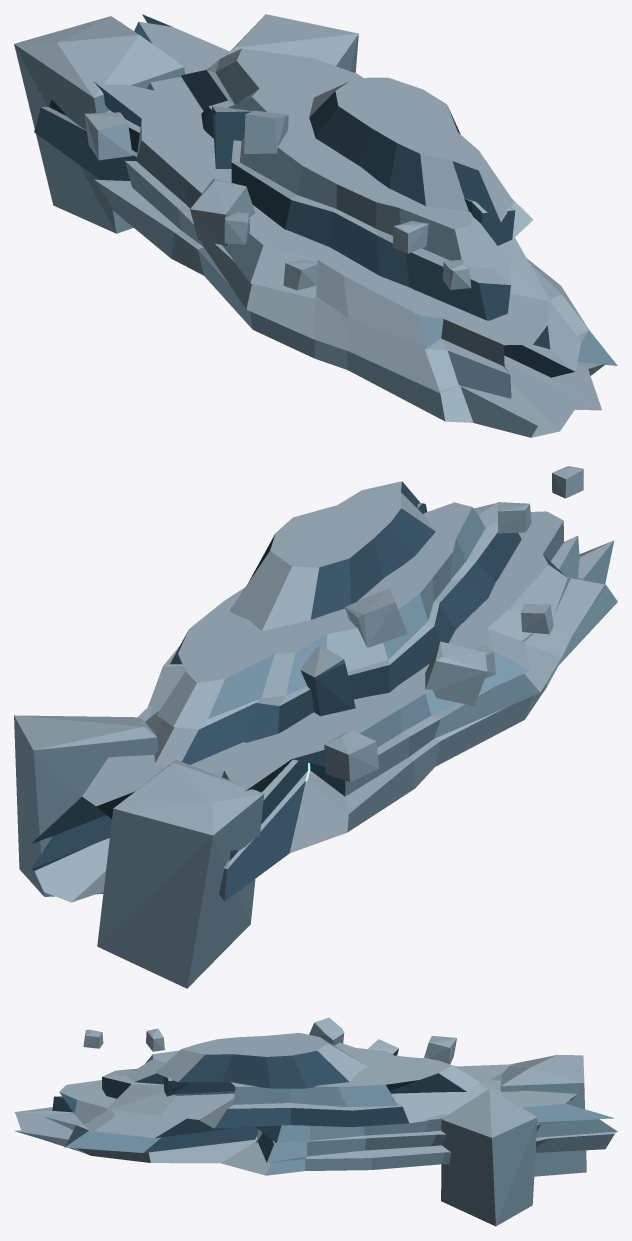
The model's file is shelf.glb.
3 views of the same model, one above another, from view 1: azimuth 30°, elevation 25°; view 2: azimuth 150°, elevation 25°; view 3: azimuth 270°, elevation 25° (orthographic). The views are drawn at different scales.
Parts seen in each view (by area): view 1: shelf; view 2: shelf; view 3: shelf.
Boxes of the visible parts, x1,y1,x2,y2 form: shelf: [14, 14, 617, 437]; shelf: [14, 466, 617, 988]; shelf: [15, 1017, 617, 1226].
Bounding box in the file's own units: 16.28 × 12.19 × 43.3.
